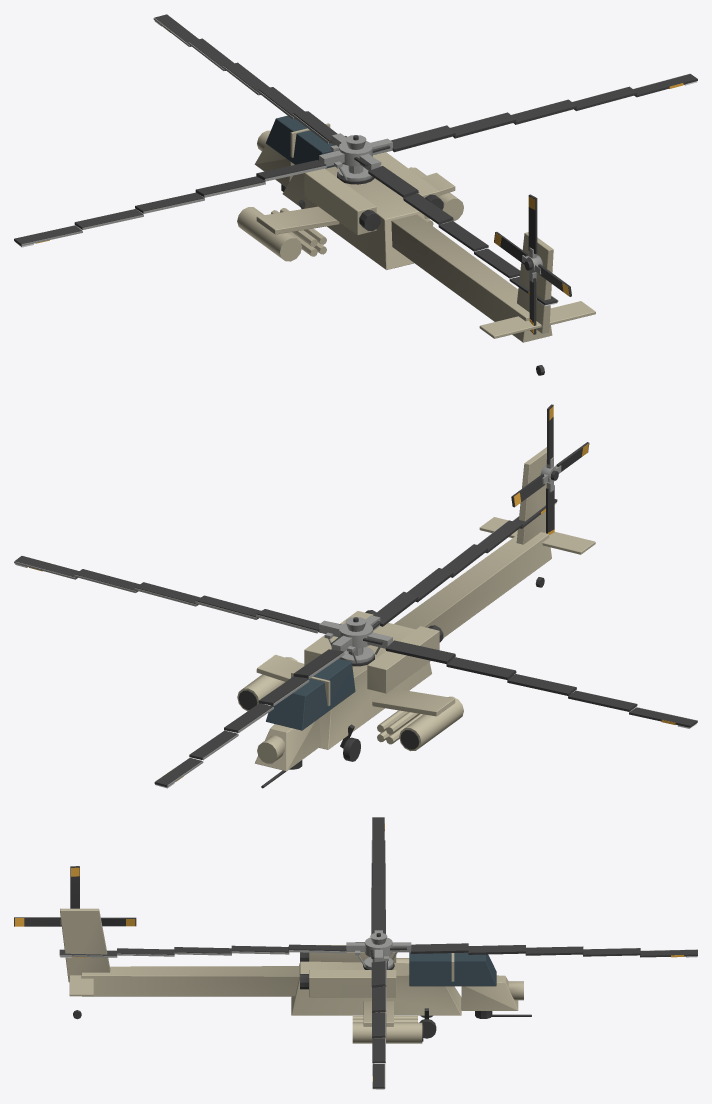
The model's file is heli_rus.glb.
The picture shows the model from 3 angles, top to bottom: view 1: azimuth 30°, elevation 25°; view 2: azimuth 150°, elevation 25°; view 3: azimuth 270°, elevation 25°; orthographic projection. The views are drawn at different scales.
Visible parts, largest first — view 1: body, rotor, trotor; view 2: body, rotor, trotor; view 3: body, rotor, trotor.
Boxes of the visible parts, box(x1,y1,x2,y2) form: body: box(237, 115, 595, 375); rotor: box(14, 14, 697, 306); trotor: box(494, 194, 571, 334); body: box(237, 447, 595, 788); rotor: box(14, 499, 697, 788); trotor: box(511, 404, 589, 534); body: box(60, 908, 531, 1043); rotor: box(59, 817, 697, 1089); trotor: box(14, 866, 136, 926).
Size of the model in its own units: 17.21 by 4.68 by 18.44.
